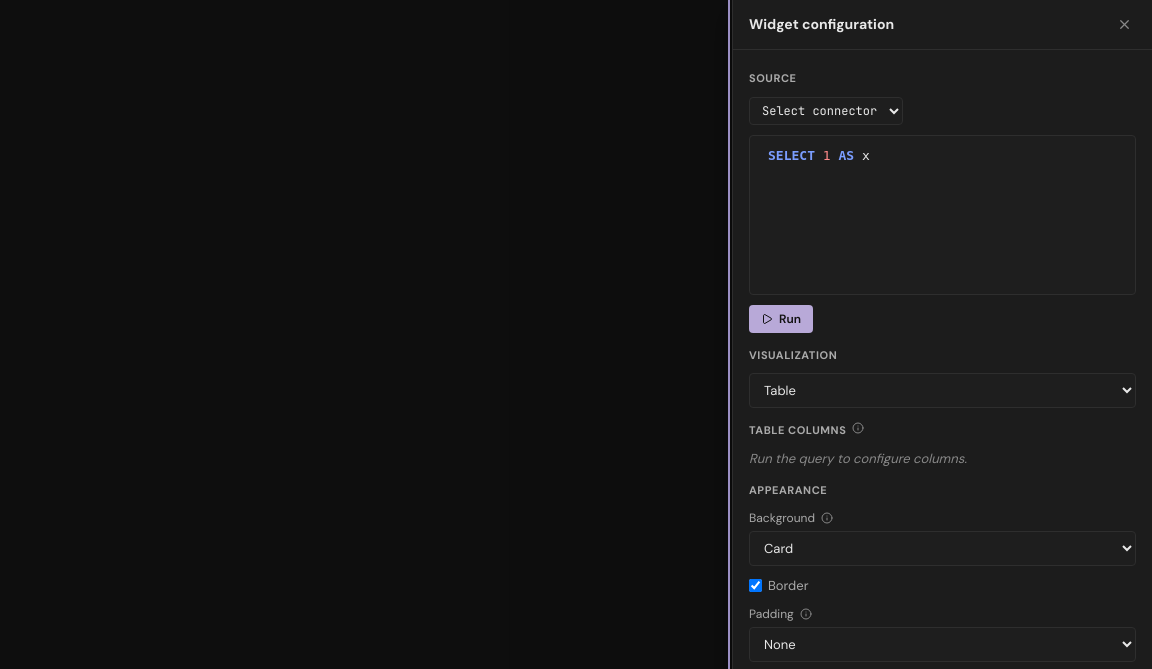
Scenario: WidgetConfigDrawer › saves a table column format from the run result
This screenshot has width=1152, height=669.
Click the button "Run": (781, 318) [749,304,813,332]
(page scrolled)
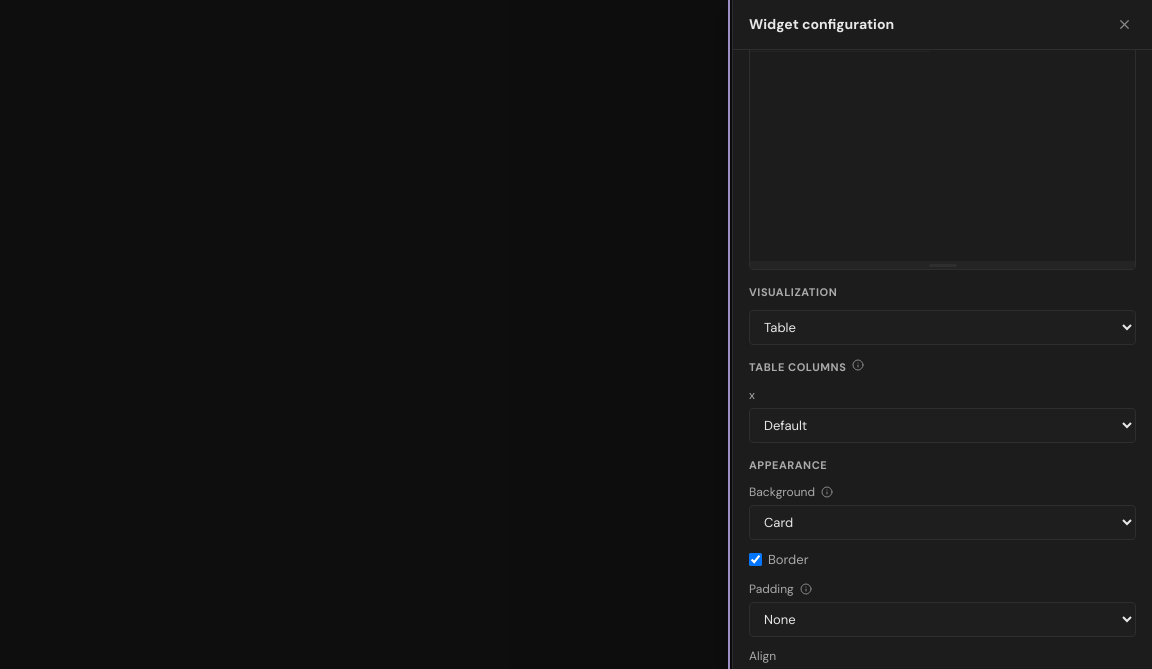
Select "Currency" in the dropdown named "Format x": (942, 425) [749,408,1136,442]
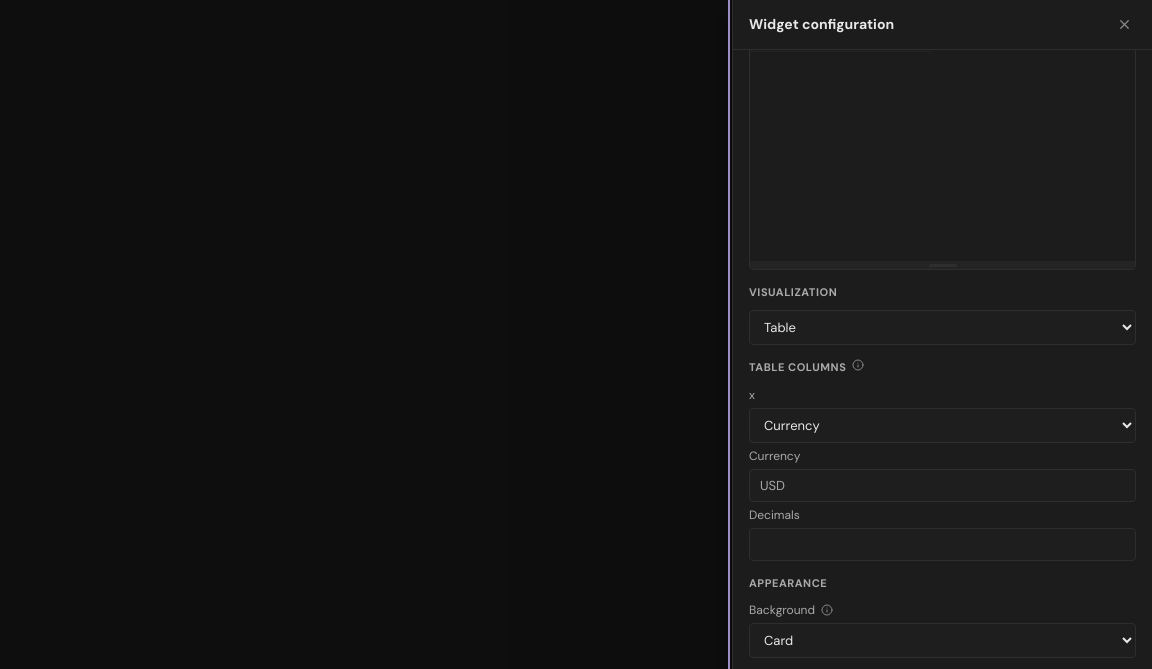
Expected: the field named "Currency for x" is shown, [749,468,1136,502]
